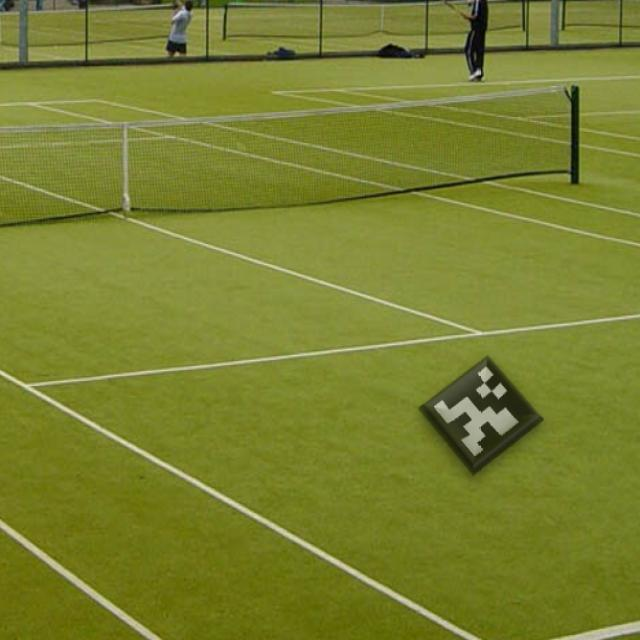marker: (413, 346, 553, 480)
